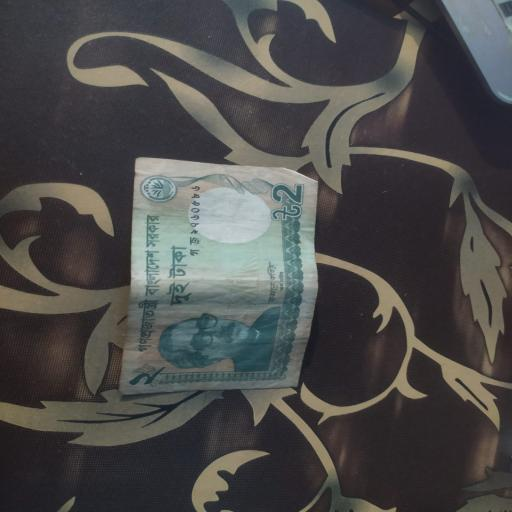2taka: (119, 157, 317, 394)
